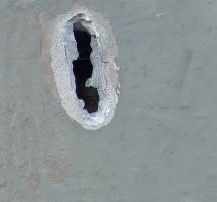Spalling: (50, 7, 120, 132)
